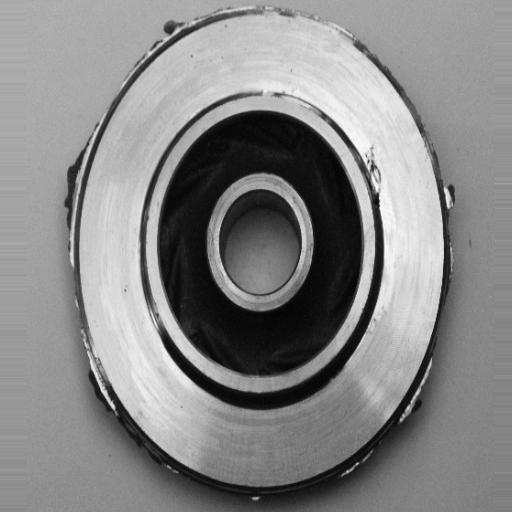casting_with_burr: (64, 1, 460, 505)
crack: (360, 141, 390, 211)
scratch: (259, 79, 333, 119)
